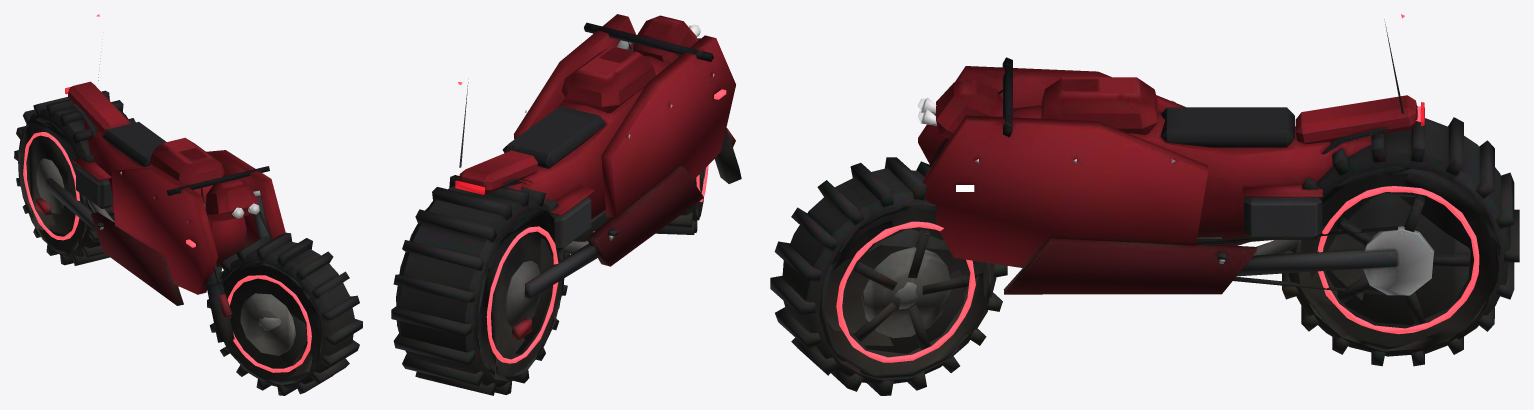
The model's file is CRB1_batcycle_pursuit_lod1.glb.
3 views of the same model, side by side, from view 1: azimuth 30°, elevation 25°; view 2: azimuth 150°, elevation 25°; view 3: azimuth 270°, elevation 25° (orthographic). The views are drawn at different scales.
Parts seen in each view (by area): view 1: CRB1_batcycle_pursuit_LOD1; view 2: CRB1_batcycle_pursuit_LOD1; view 3: CRB1_batcycle_pursuit_LOD1.
Boxes of the visible parts, x1,y1,x2,y2 form: CRB1_batcycle_pursuit_LOD1: (14,14,362,395); CRB1_batcycle_pursuit_LOD1: (391,14,741,395); CRB1_batcycle_pursuit_LOD1: (770,14,1519,395).
Size of the model in its own units: 0.8549 by 1.61 by 3.06.
Materials: 7 (3 with a texture image).
